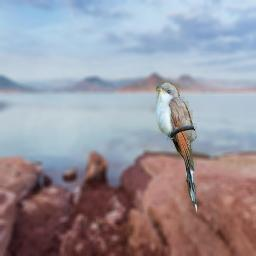Cuckoo: (156, 82, 197, 212)
